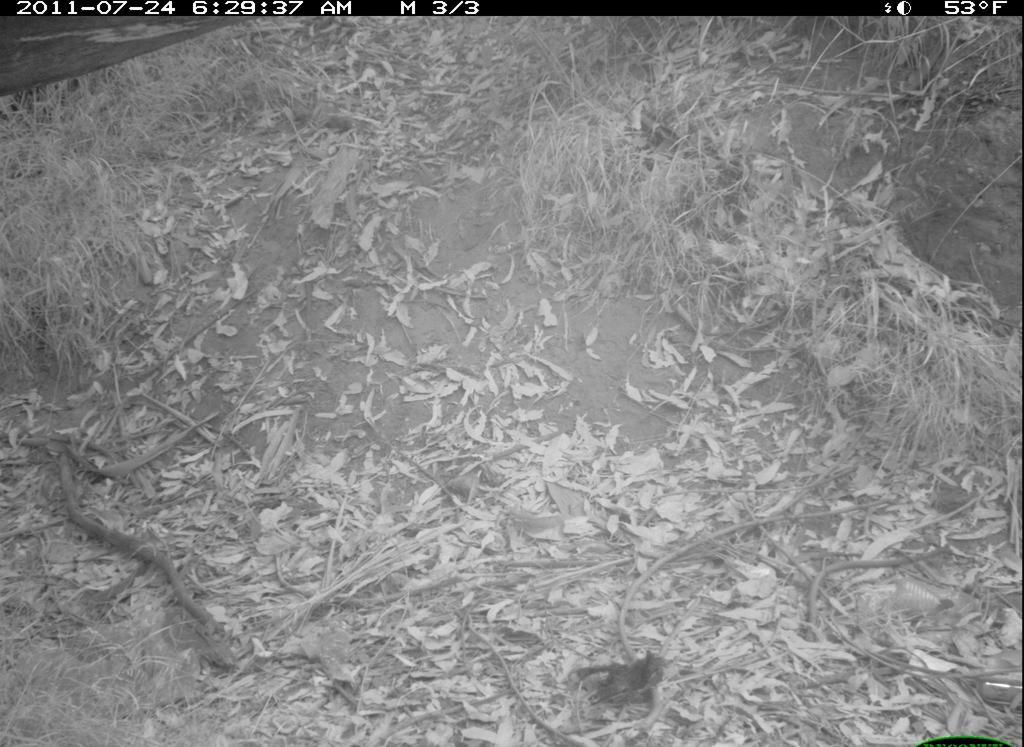dog: (557, 629, 701, 734)
